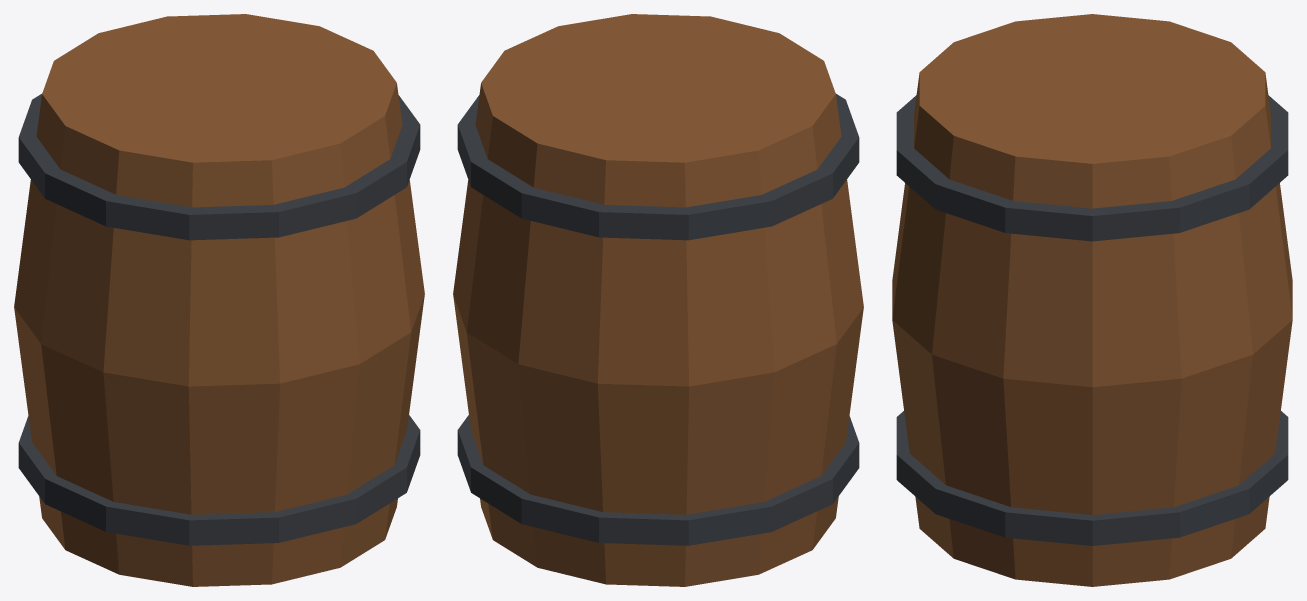
The model's file is barrel.glb.
3 views of the same model, side by side, from view 1: azimuth 30°, elevation 25°; view 2: azimuth 150°, elevation 25°; view 3: azimuth 270°, elevation 25° (orthographic).
Bounding box in the file's own units: 0.88 × 1 × 0.8579.
